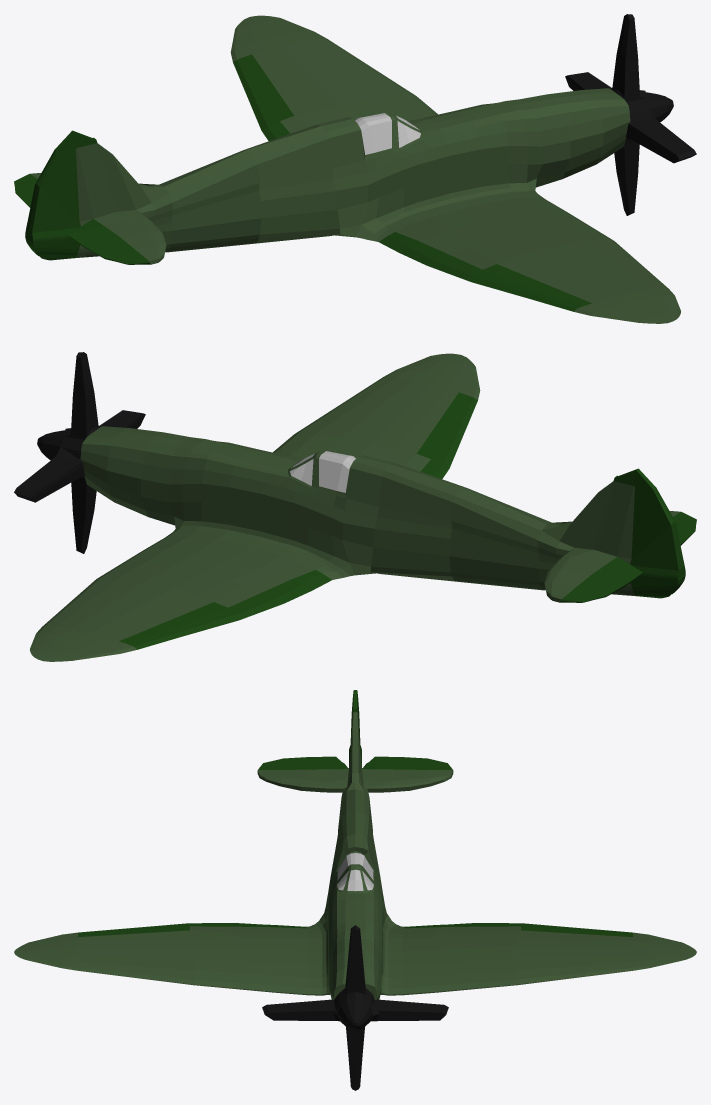
File: SpitfireLowPoly.fbx
3 views of the same model, one above another, from view 1: azimuth 30°, elevation 25°; view 2: azimuth 150°, elevation 25°; view 3: azimuth 270°, elevation 25° (orthographic). The views are drawn at different scales.
Parts seen in each view (by area): view 1: Circle.001; view 2: Circle.001; view 3: Circle.001.
Part boxes in pixels (x1,y1,x2,y2): Circle.001: (14,14,696,323); Circle.001: (14,352,696,661); Circle.001: (14,690,696,1090).
Bounding box in the file's own units: 232 × 75.65 × 261.
